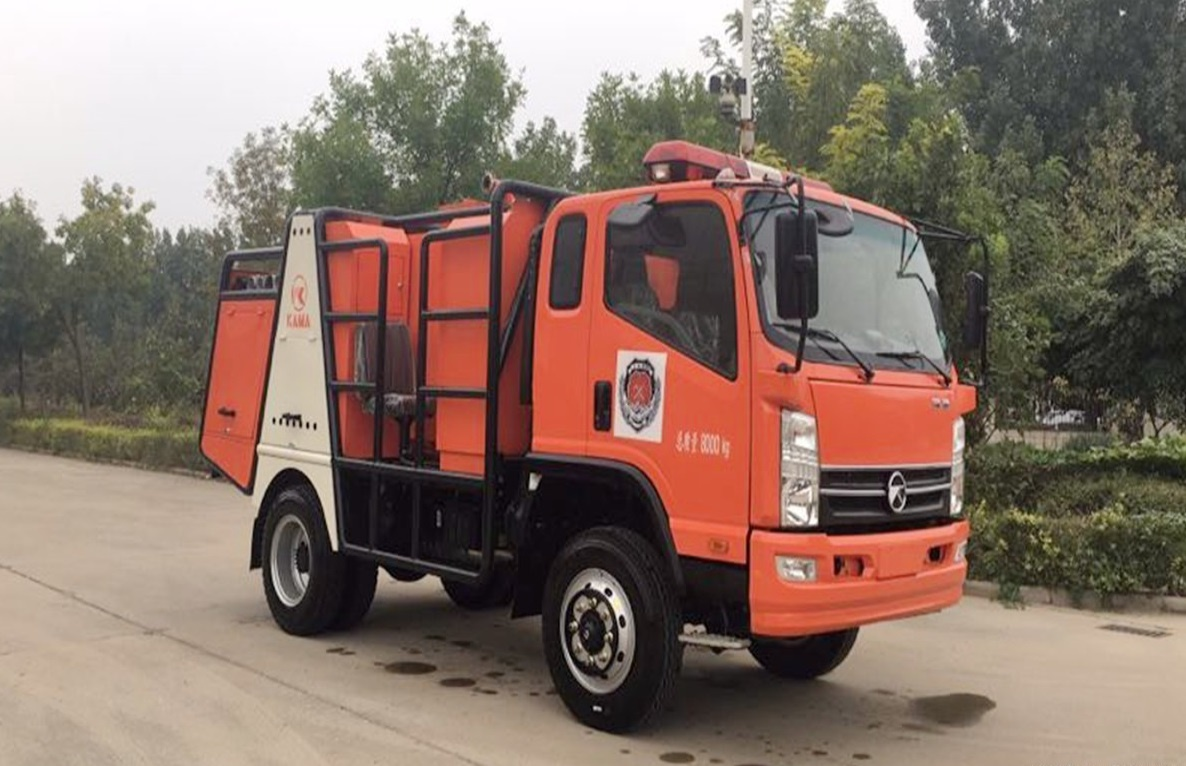fire engine: (187, 180, 988, 717)
